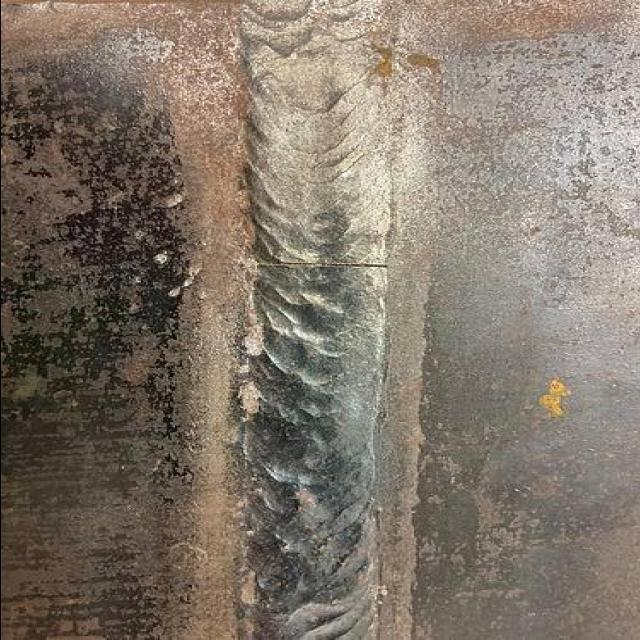defect: (246, 259, 394, 270)
